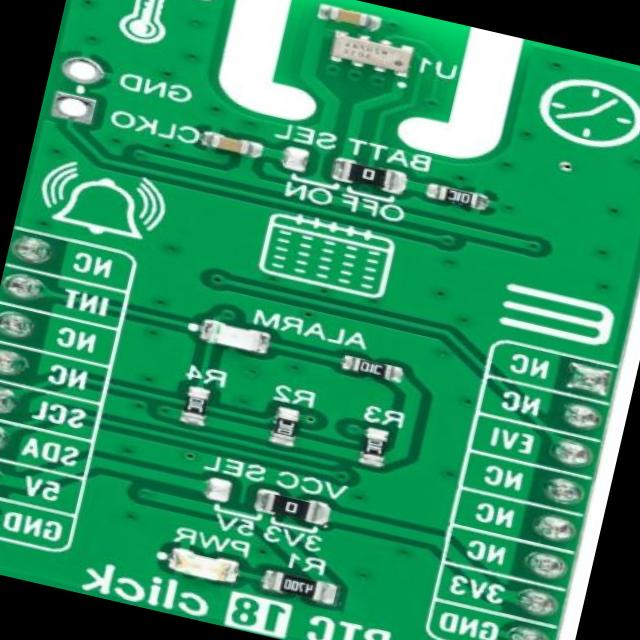IC: (324, 24, 422, 86)
LED: (152, 542, 242, 598), (198, 320, 278, 357)
capacitor: (313, 1, 387, 40), (195, 127, 262, 163)
resistor: (250, 486, 328, 526), (341, 154, 410, 196), (262, 571, 341, 602), (338, 351, 399, 386), (176, 384, 222, 429), (352, 418, 393, 462), (433, 182, 484, 212), (270, 402, 304, 440)
